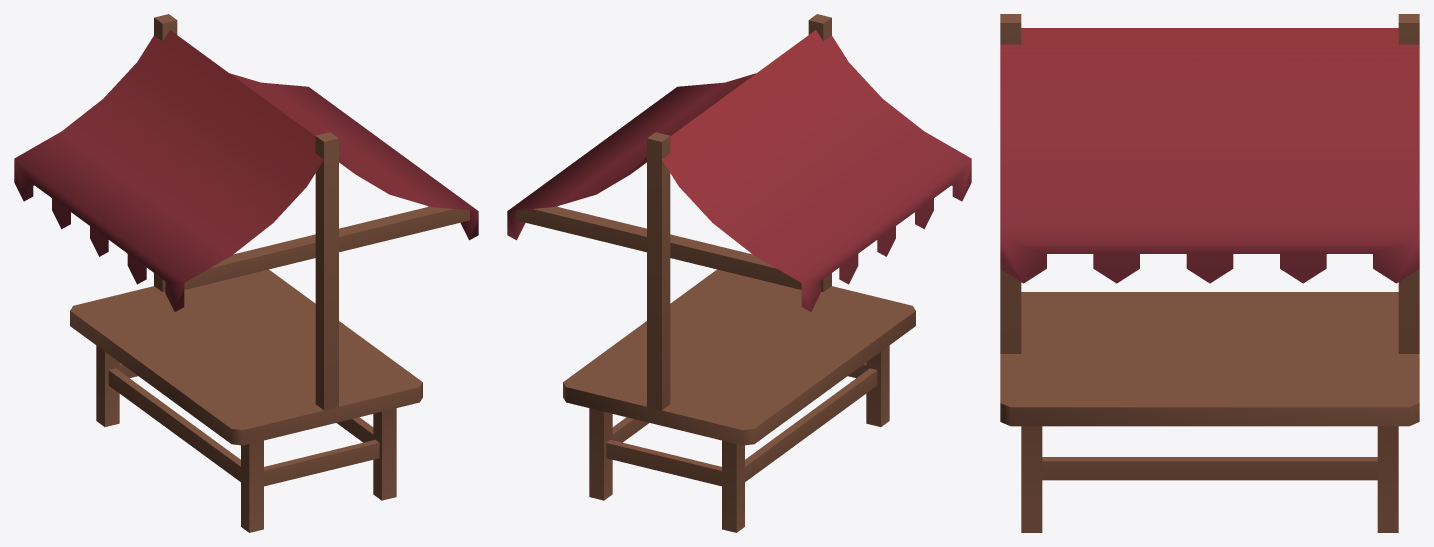
Rendered from puesto.glb.
3 renders of one model, left to right at view 1: azimuth 30°, elevation 25°; view 2: azimuth 150°, elevation 25°; view 3: azimuth 270°, elevation 25°, orthographic. The views are drawn at different scales.
Visible parts, largest first — view 1: stall-red; view 2: stall-red; view 3: stall-red.
Part boxes in pixels (x1,y1,x2,y2): stall-red: [14, 14, 478, 532]; stall-red: [507, 14, 971, 532]; stall-red: [1000, 14, 1419, 532].
Size of the model in its own units: 1 by 1.24 by 1.
